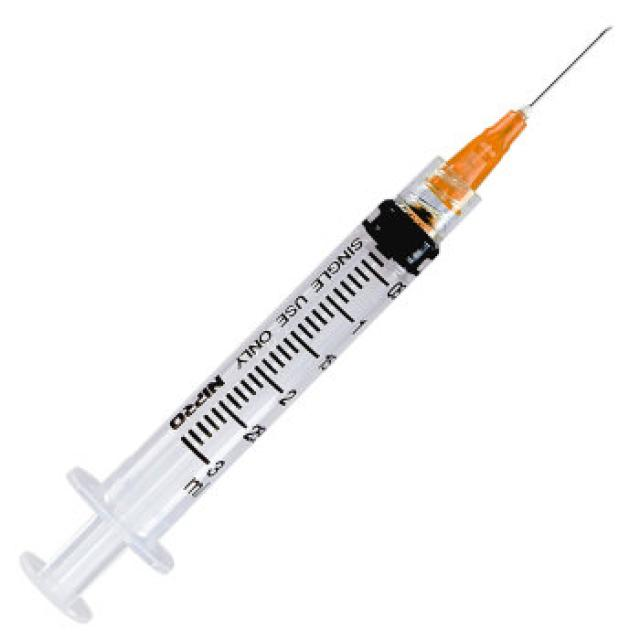syringe: (16, 22, 612, 623)
